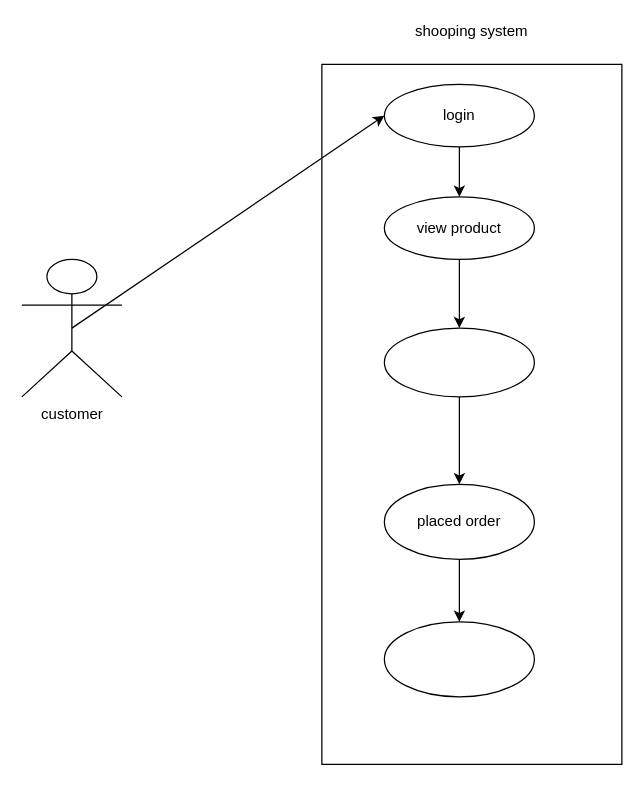
This 644x796 diagram has some shape labels left out. Each missing label, with the box of its shape:
add to cart: (383, 327, 534, 397)
logout: (383, 621, 534, 697)
